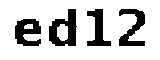1: (84, 4, 114, 51)
2: (118, 5, 144, 51)
d: (47, 6, 79, 52)
e: (12, 17, 43, 51)
